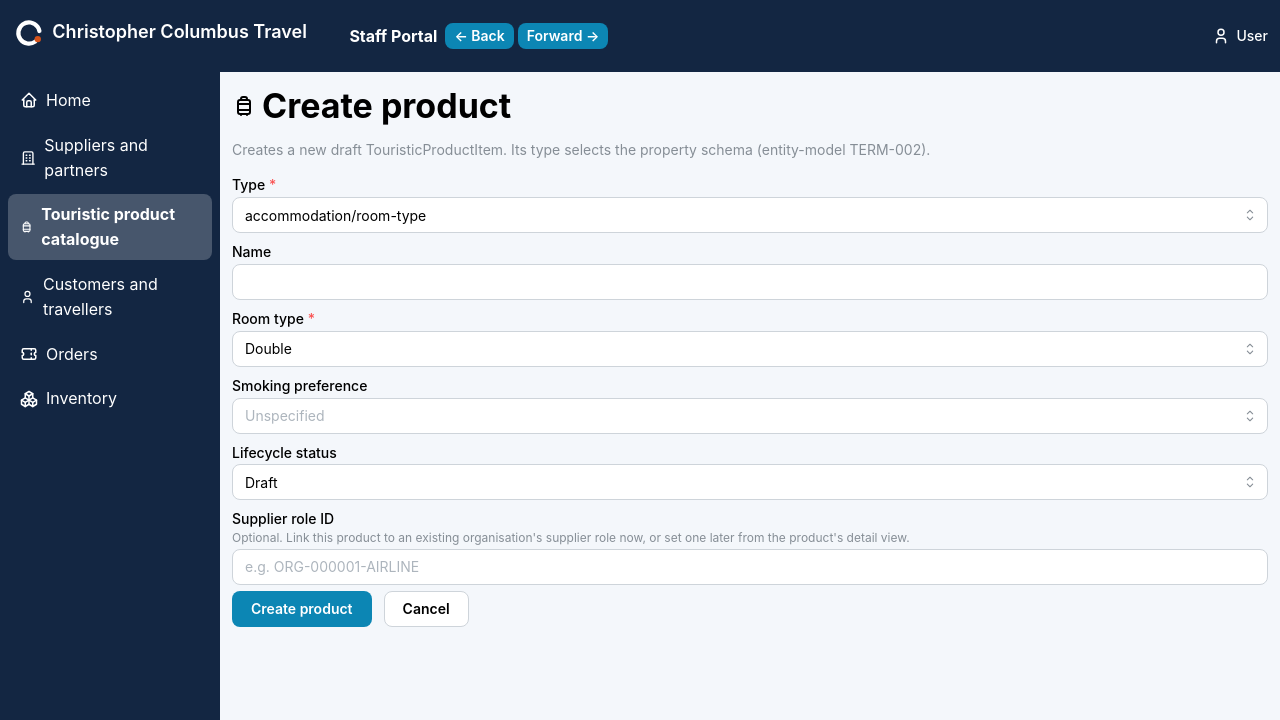
Test case: ProductCreateRoute (VIEW-S-003 create flow, issue #31 phase 2) › shows an error banner when creation fails
Click the field labelled "Type *". click: (750, 215)
box: [232,197,1268,233]
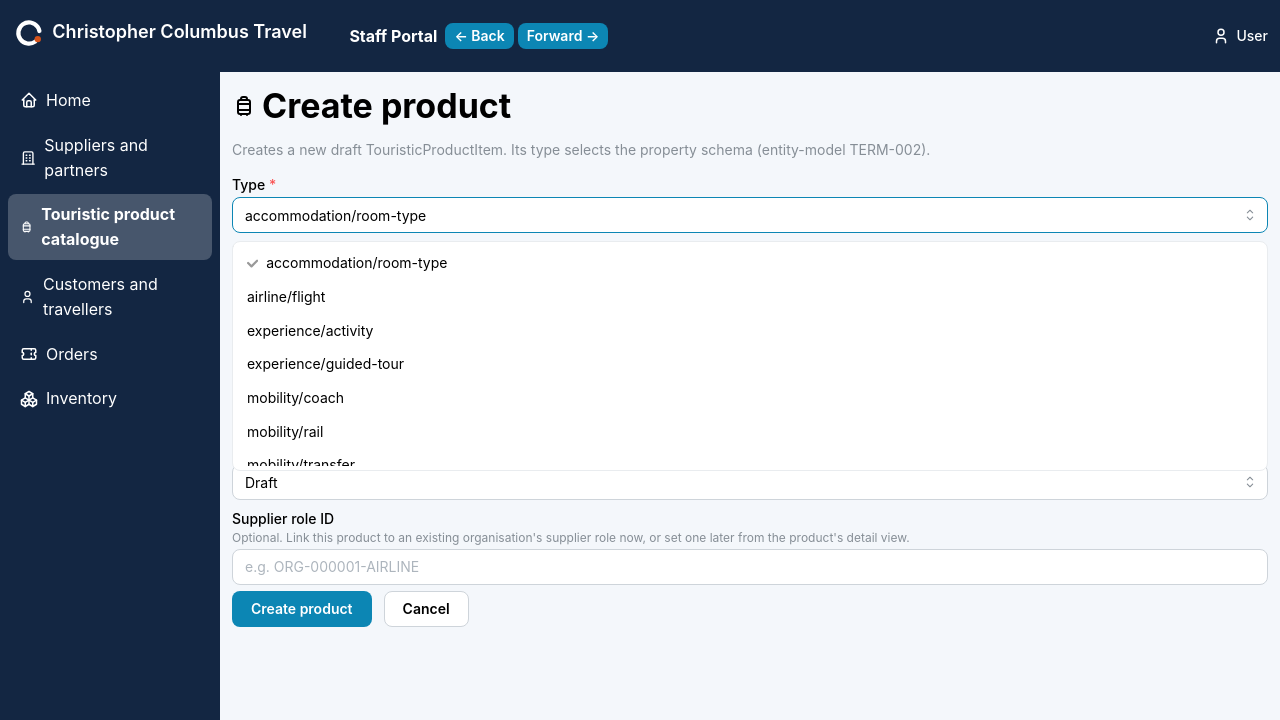
Click the option "mobility/transfer". click: (301, 465)
box: [247,456,355,473]
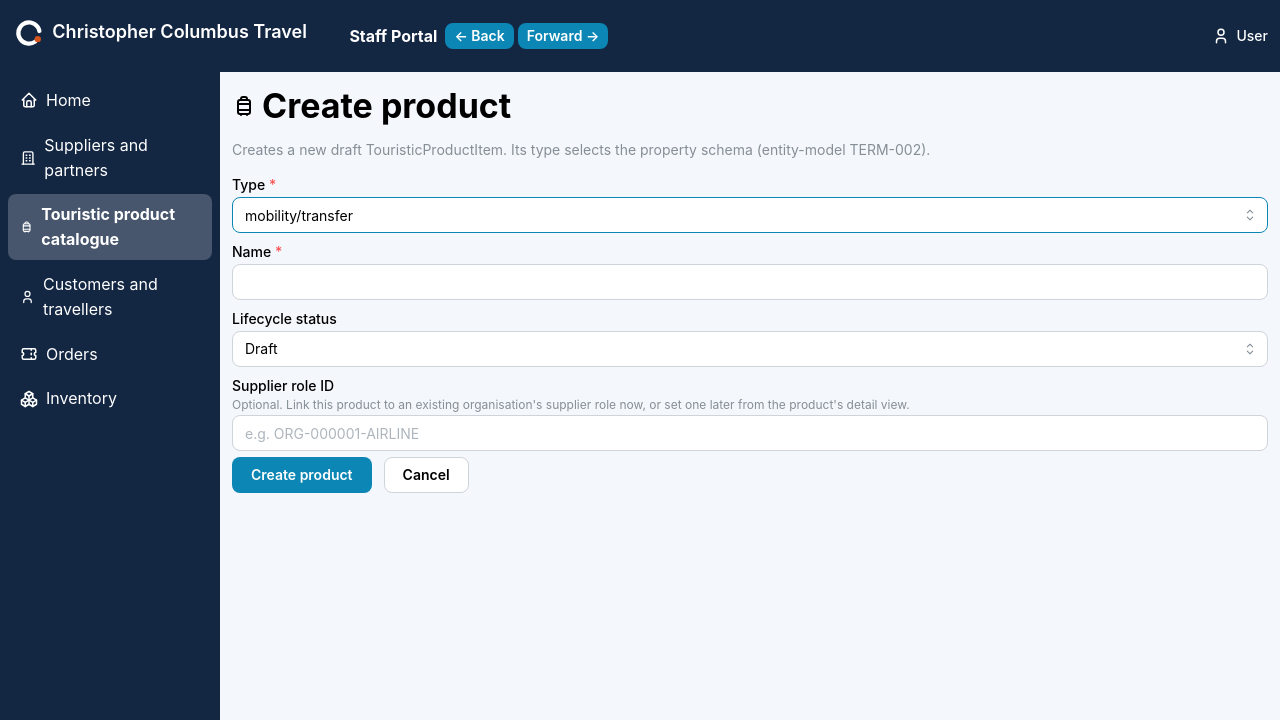
Type "Airport transfer" into the field labelled "Name *". click: (750, 282)
box: [232,264,1268,300]
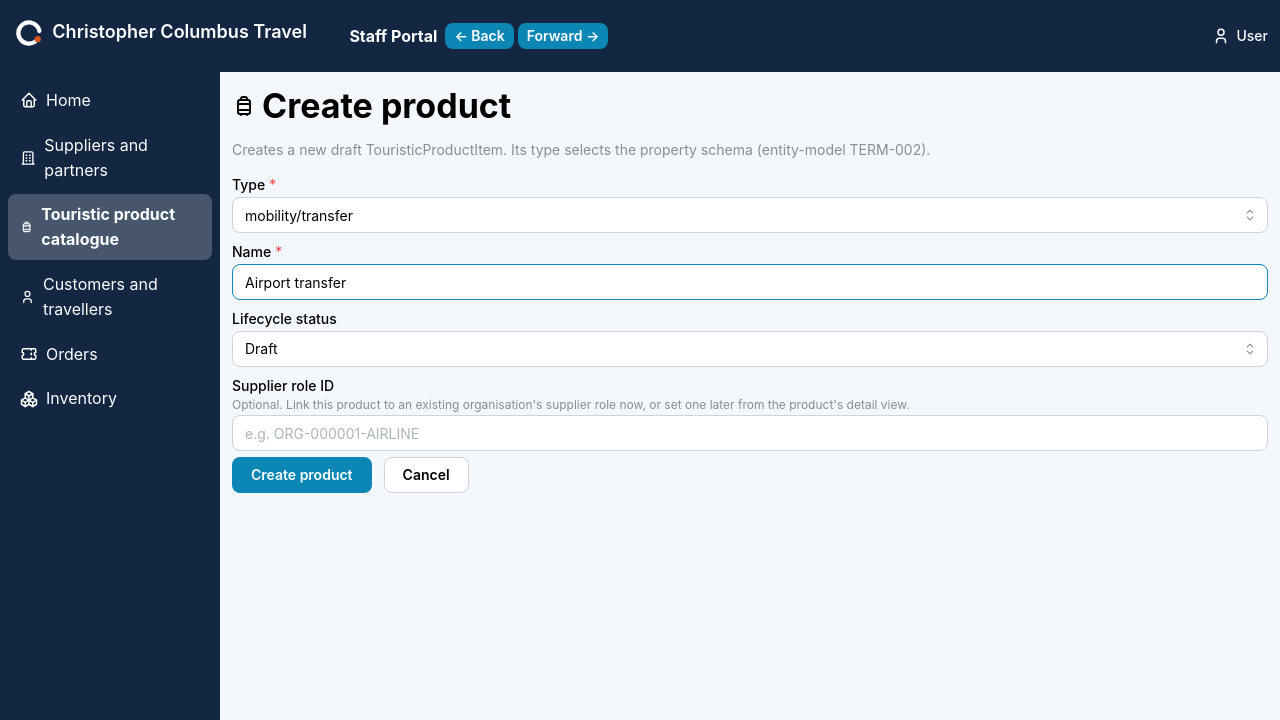
Click the button "Create product". click: (302, 475)
box: [232,457,372,493]
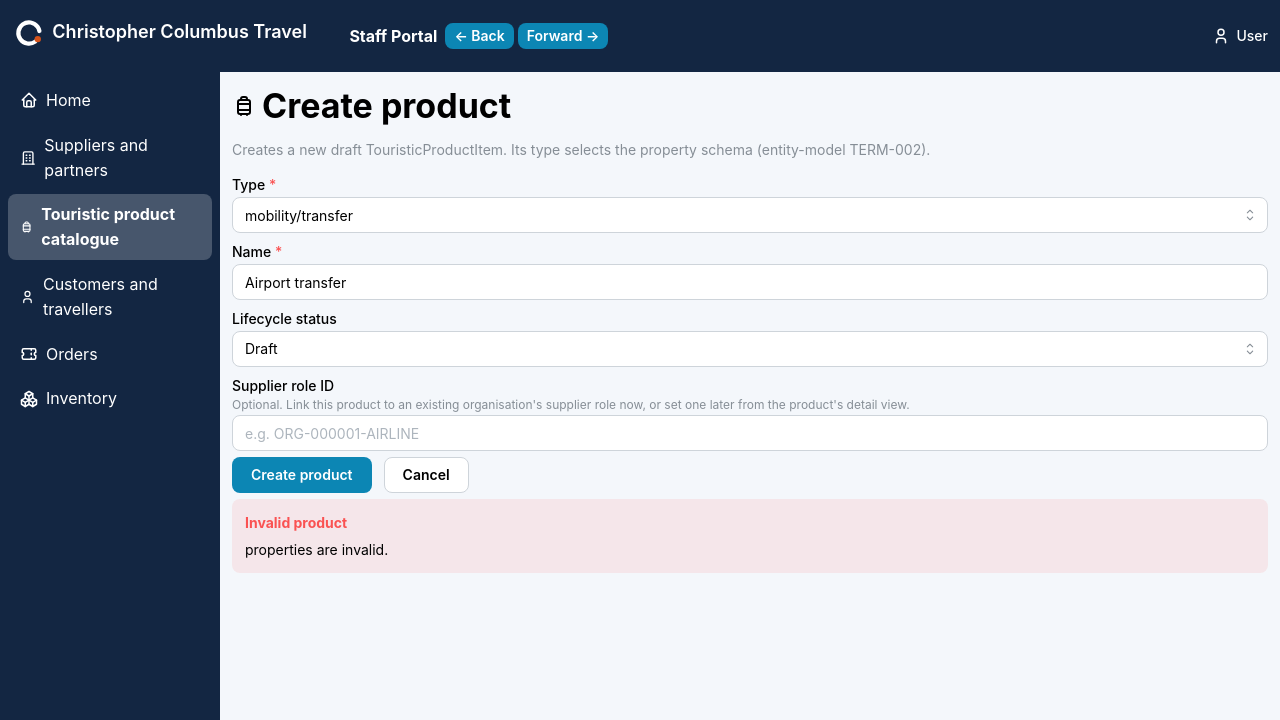
Expected: the text "Invalid product" is shown, [245,512,347,534]
